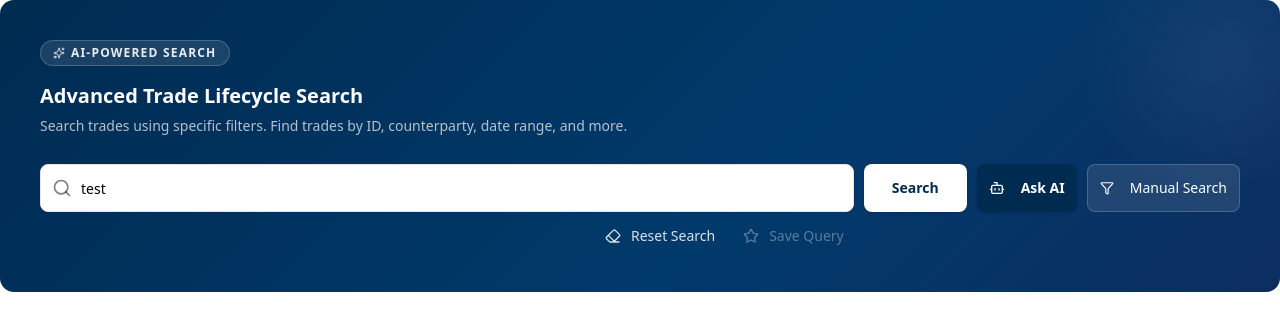
Test: SearchHeader › Keyboard Navigation › should support Escape key to clear suggestions
Click the field with placeholder "Search by trade ID, counterparty, product type" at (447, 188), box top-left (40, 164), bottom-right (854, 212)
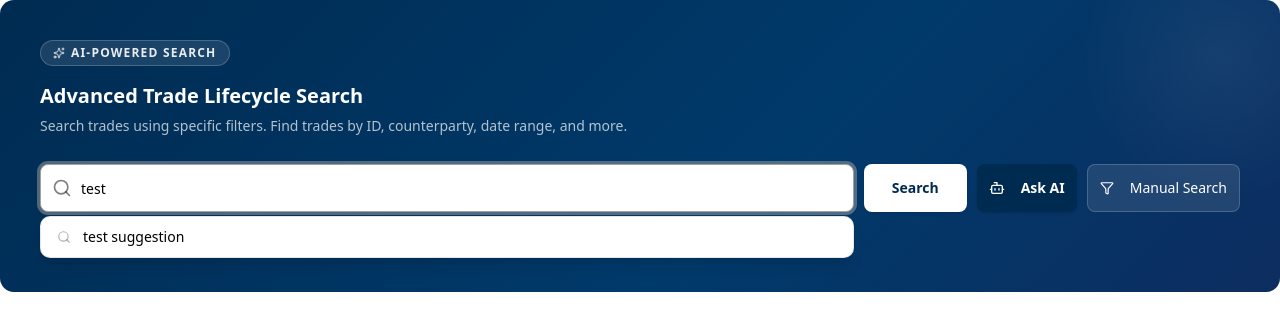
Expected: the text "test suggestion" is shown, top-left (83, 227), bottom-right (184, 247)
Press Escape
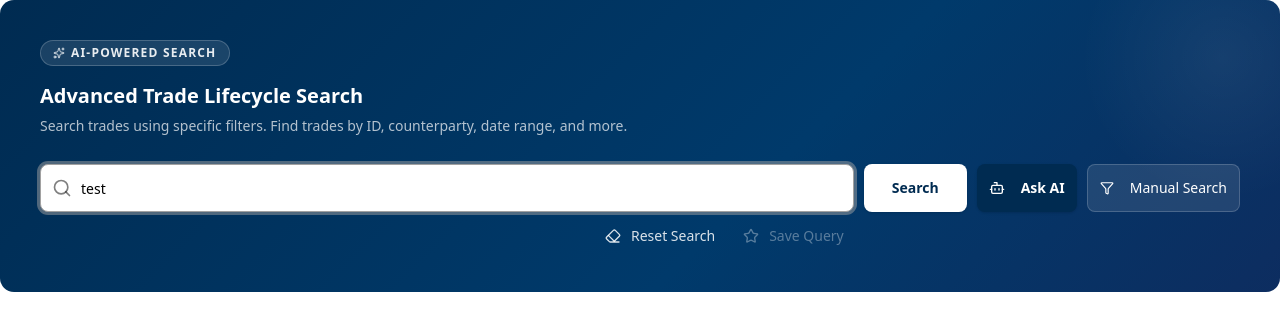
Expected: the button "test suggestion" is gone
